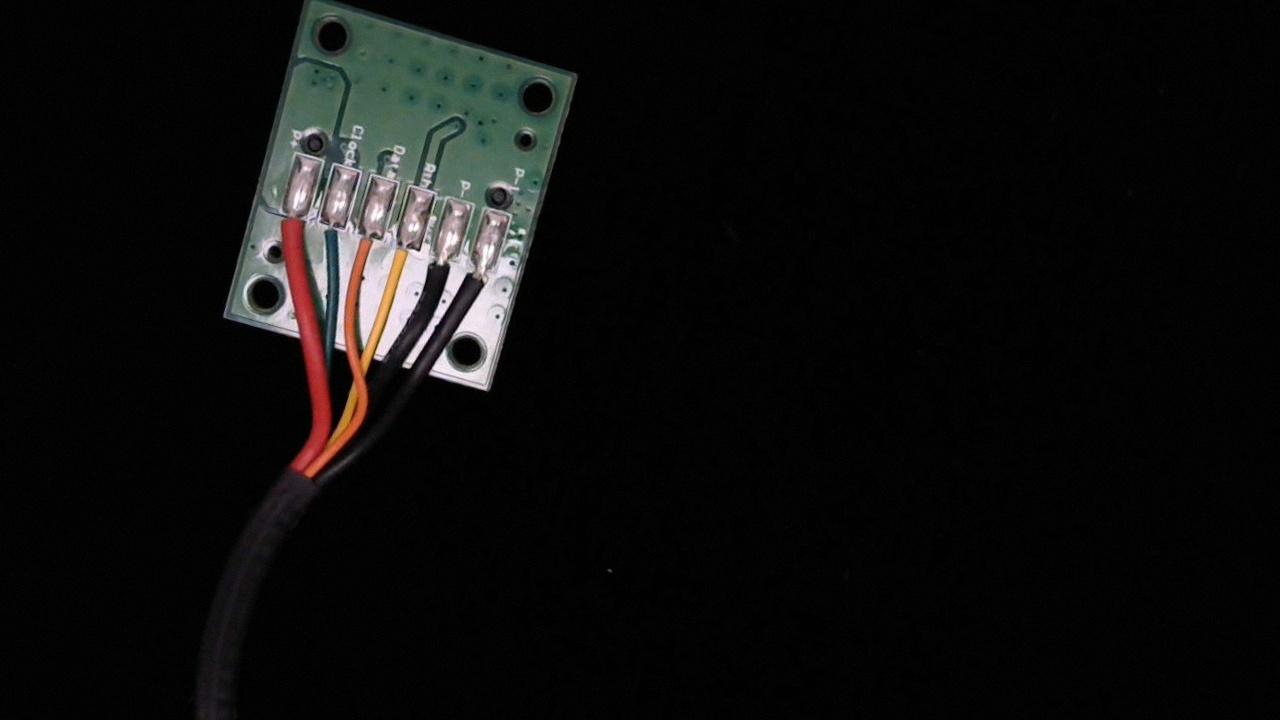Black: (413, 236, 463, 310)
Black1: (450, 247, 502, 321)
Green: (303, 203, 354, 272)
Orange: (339, 210, 392, 289)
Red: (261, 192, 314, 269)
Yellow: (373, 222, 428, 303)
